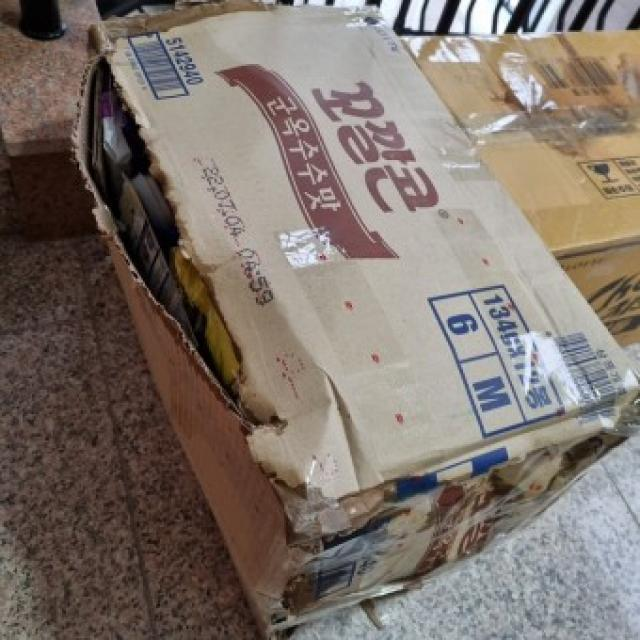hole: (73, 43, 251, 413), (306, 501, 418, 555)
wet: (95, 56, 196, 303)
